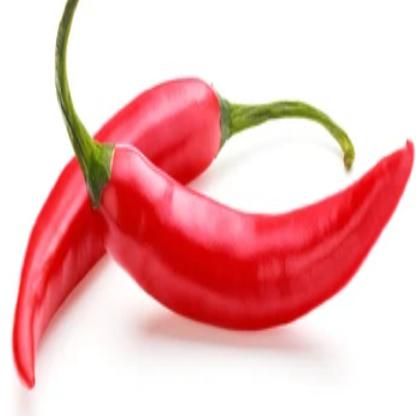chili: (11, 52, 408, 394)
